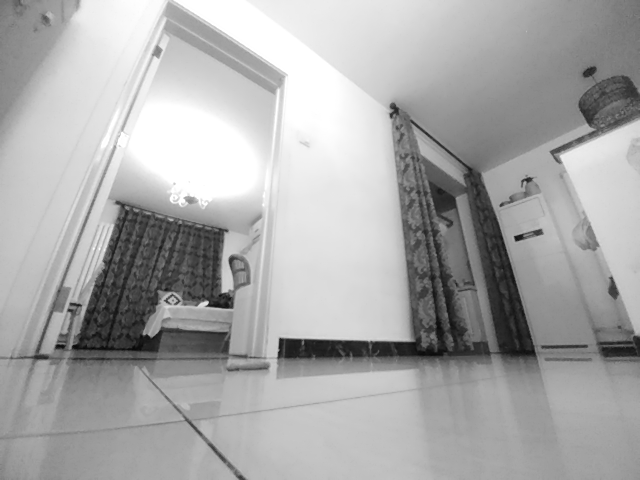curtain: (73, 202, 226, 352), (391, 103, 473, 355), (463, 171, 535, 353)
pet feces: (225, 360, 271, 373)
